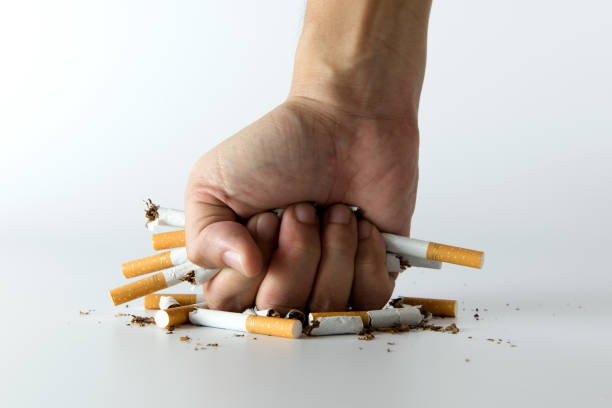cigarette: (120, 248, 188, 281), (139, 195, 185, 228), (150, 230, 187, 252)
